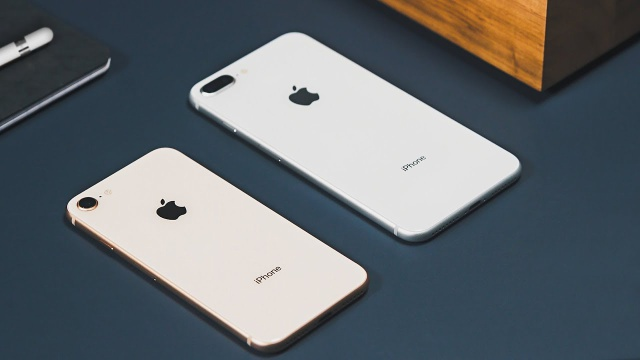apple: (281, 77, 329, 115), (152, 192, 189, 232)
